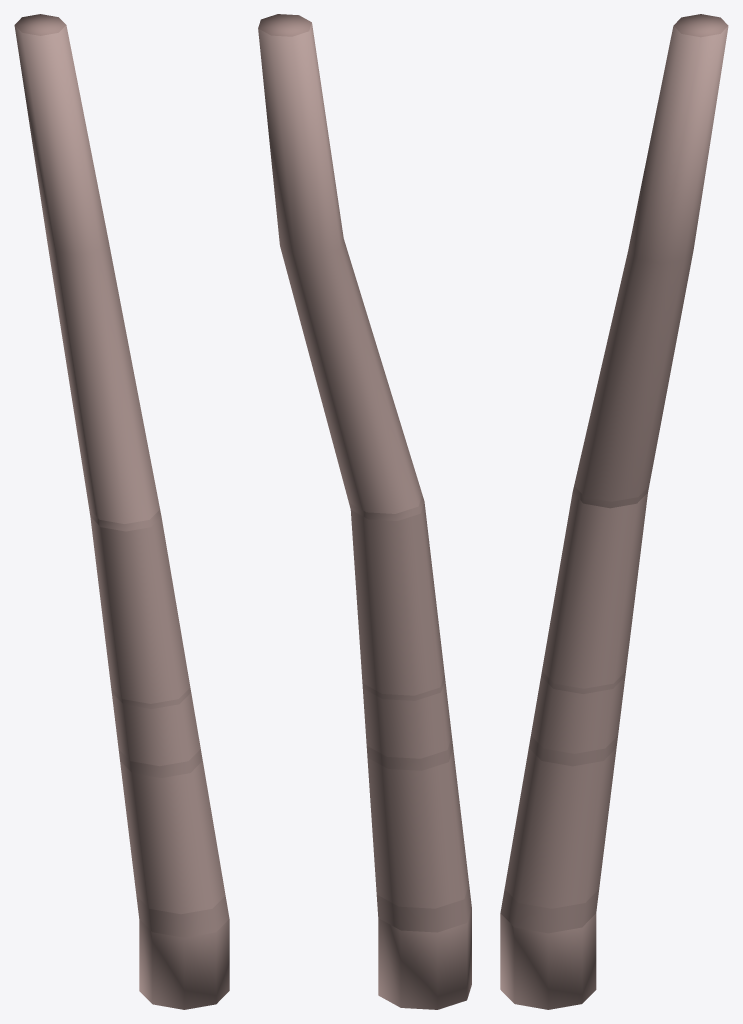
File: mdl_env_1_forest_tree_c_v01.fbx
The picture shows the model from 3 angles, left to right: view 1: azimuth 90°, elevation 25°; view 2: azimuth 150°, elevation 25°; view 3: azimuth 270°, elevation 25°; orthographic projection. The views are drawn at different scales.
Visible parts, largest first — view 1: mdl_env_1_forest_tree_c_v01; view 2: mdl_env_1_forest_tree_c_v01; view 3: mdl_env_1_forest_tree_c_v01.
Boxes of the visible parts, x1,y1,x2,y2 form: mdl_env_1_forest_tree_c_v01: (14,14,229,1009); mdl_env_1_forest_tree_c_v01: (258,14,471,1009); mdl_env_1_forest_tree_c_v01: (500,14,728,1009).
Bounding box in the file's own units: 0.9102 × 6.78 × 1.41.
